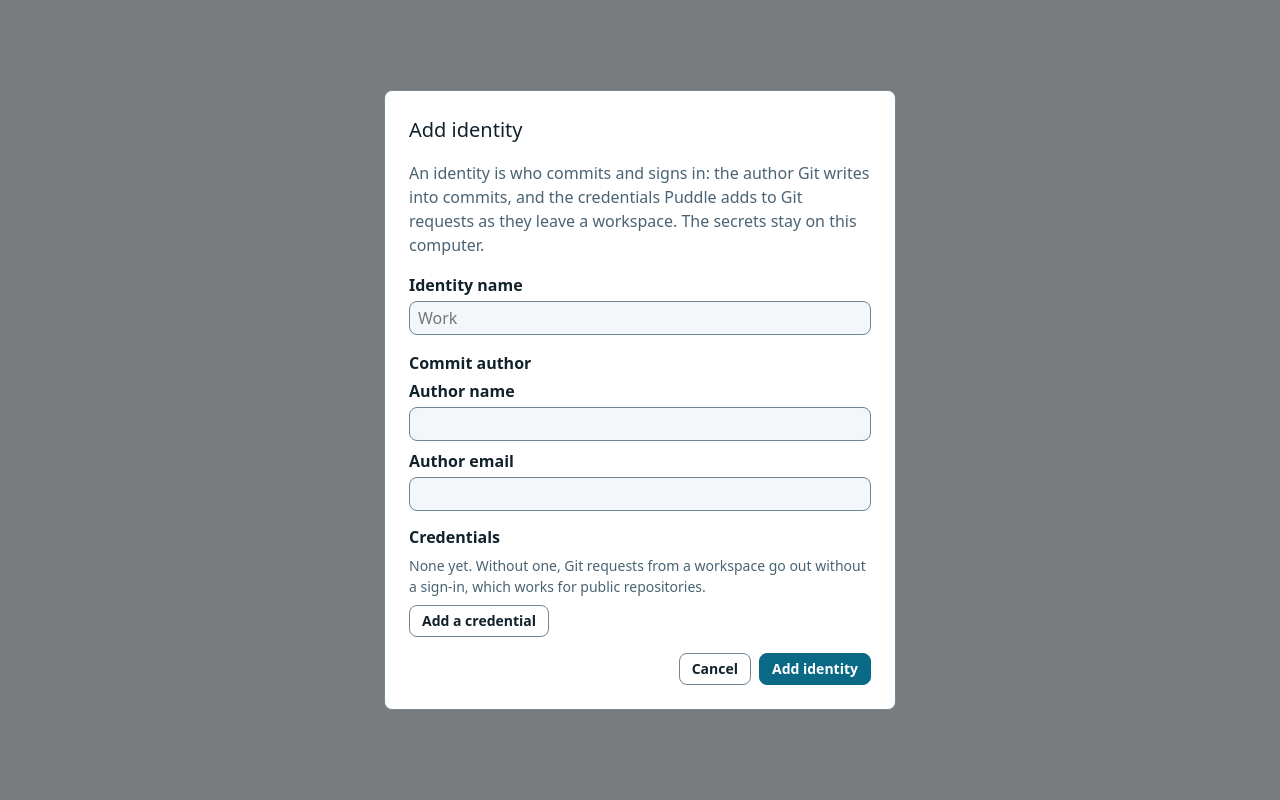
Scenario: the author from the account › fills an empty author and offers nothing more once it matches
The width and height of the screenshot is (1280, 800).
Click the button "Add a credential": (479, 621) [409,605,549,637]
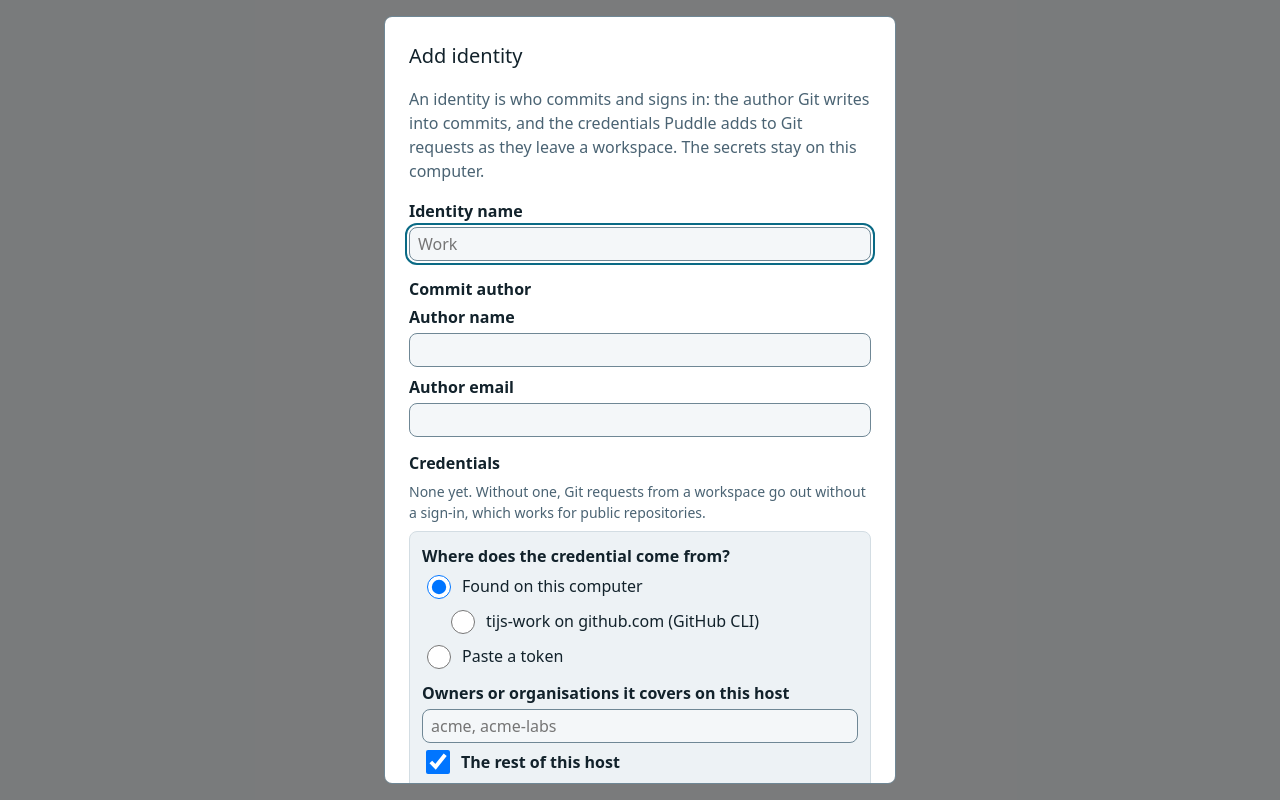
Click the radio button labelled "tijs-work on github.com (GitHub CLI)": (463, 622) [451,610,475,634]
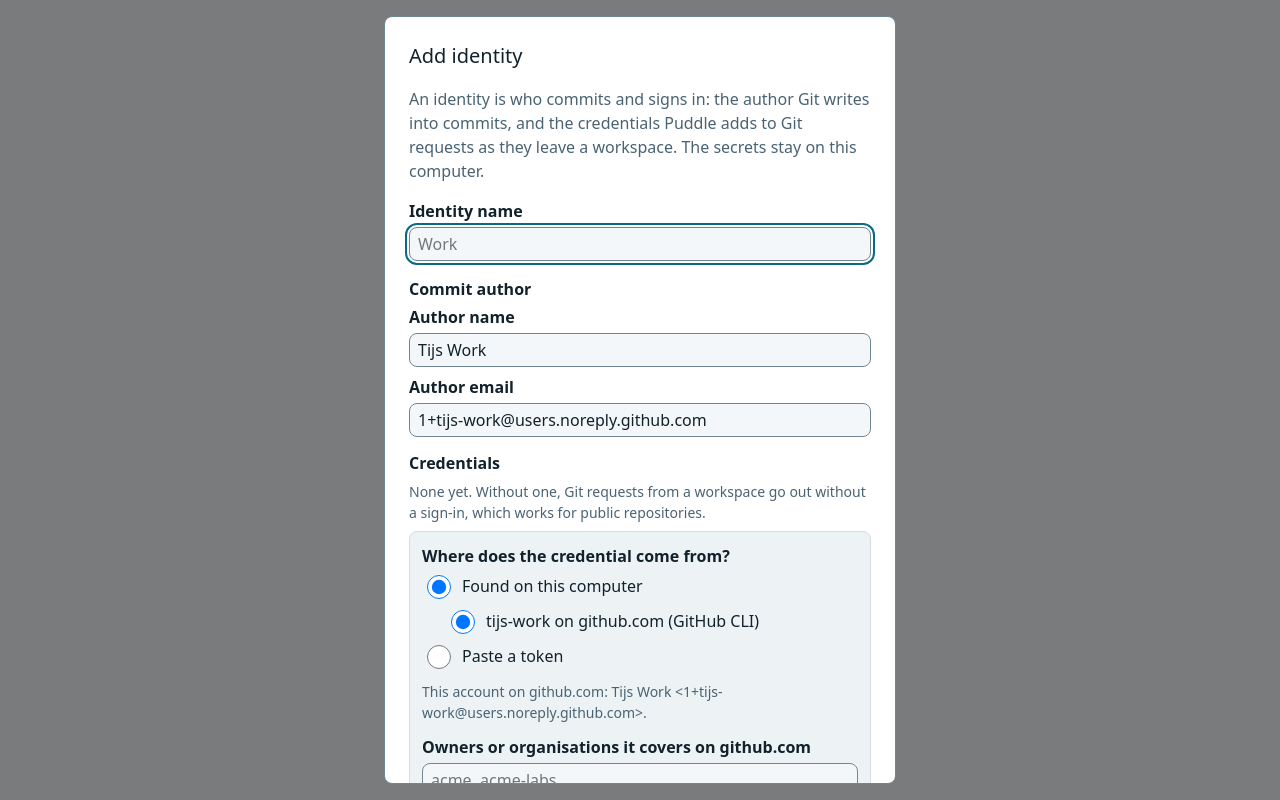
Result: the field labelled "Author name" holds "Tijs Work" at [409,333,871,367]
Result: the field labelled "Author email" holds "1+tijs-work@users.noreply.github.com" at [409,403,871,437]
